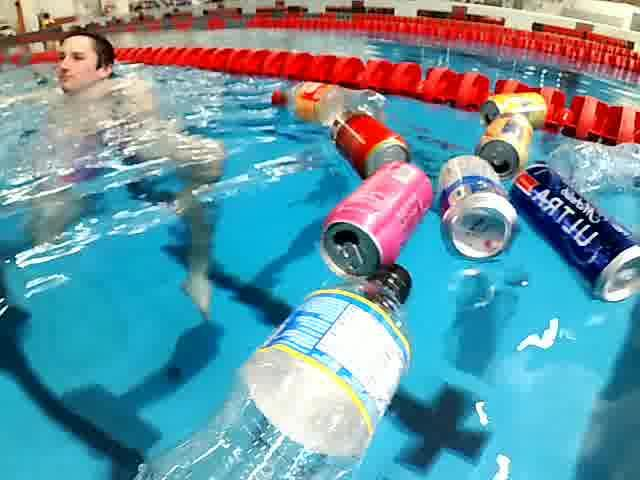Bottle: (130, 256, 425, 480), (265, 81, 396, 135), (546, 139, 640, 195)
Can: (503, 164, 639, 306), (314, 161, 438, 280), (437, 154, 522, 267), (326, 109, 421, 175), (476, 111, 538, 181), (477, 89, 550, 134)
